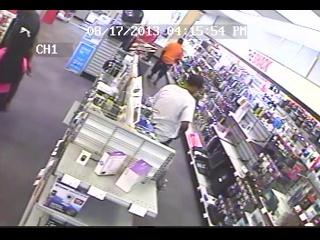Normal: (148, 74, 205, 148), (0, 10, 41, 112), (142, 38, 184, 100)
